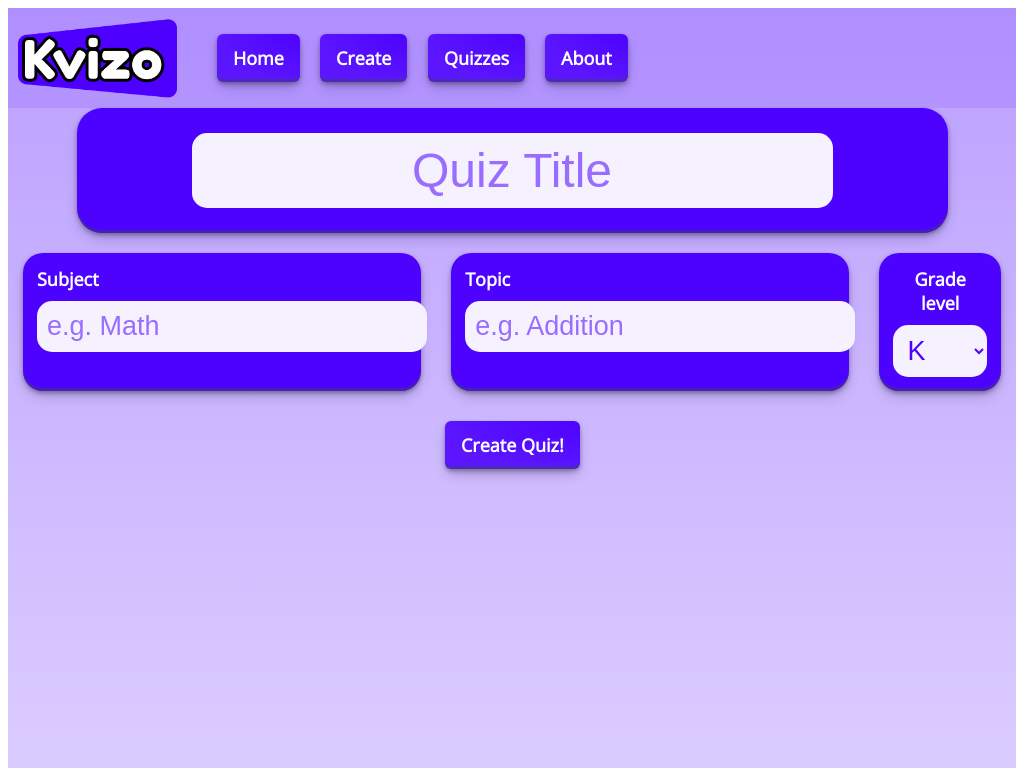
Test case: Create View: New Quiz › As a user, when I click the Create Quiz! button, if the quiz does not save, I should see an error message.
In the field with placeholder "Quiz Title": (513, 171) [192, 133, 833, 208], type "Cypress Quiz Title"
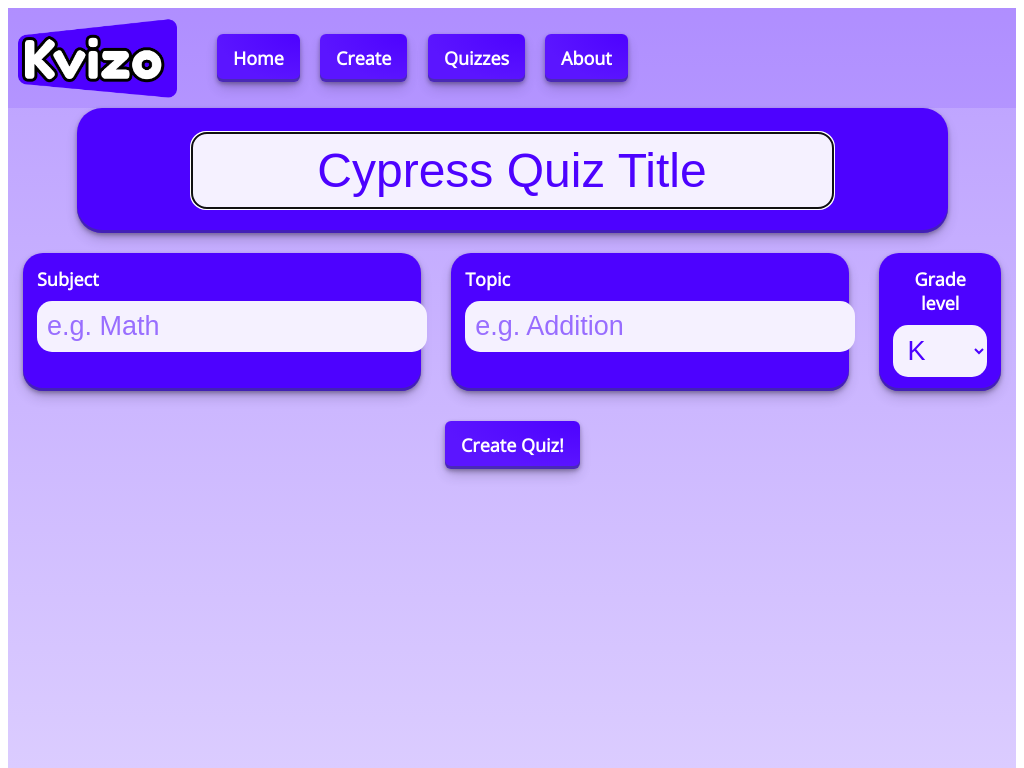
In the field named "subject": (232, 327) [37, 301, 427, 352], type "Cypress Quiz Subject"
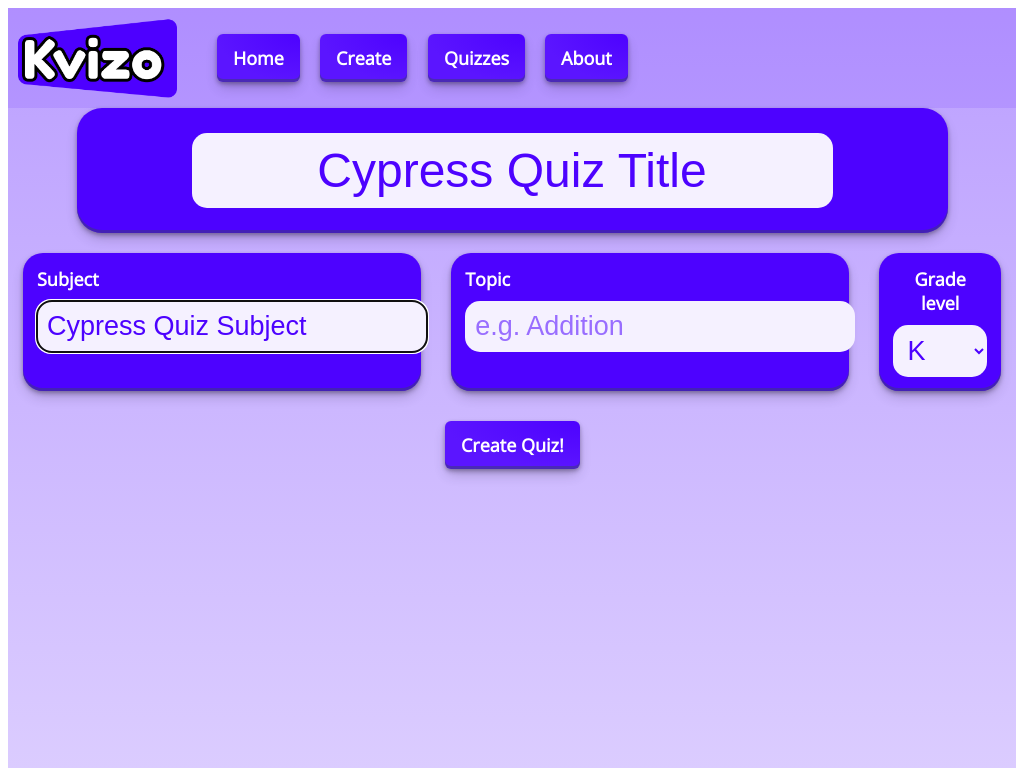
In the field named "topic": (660, 327) [465, 301, 855, 352], type "Cypress Quiz Topic"
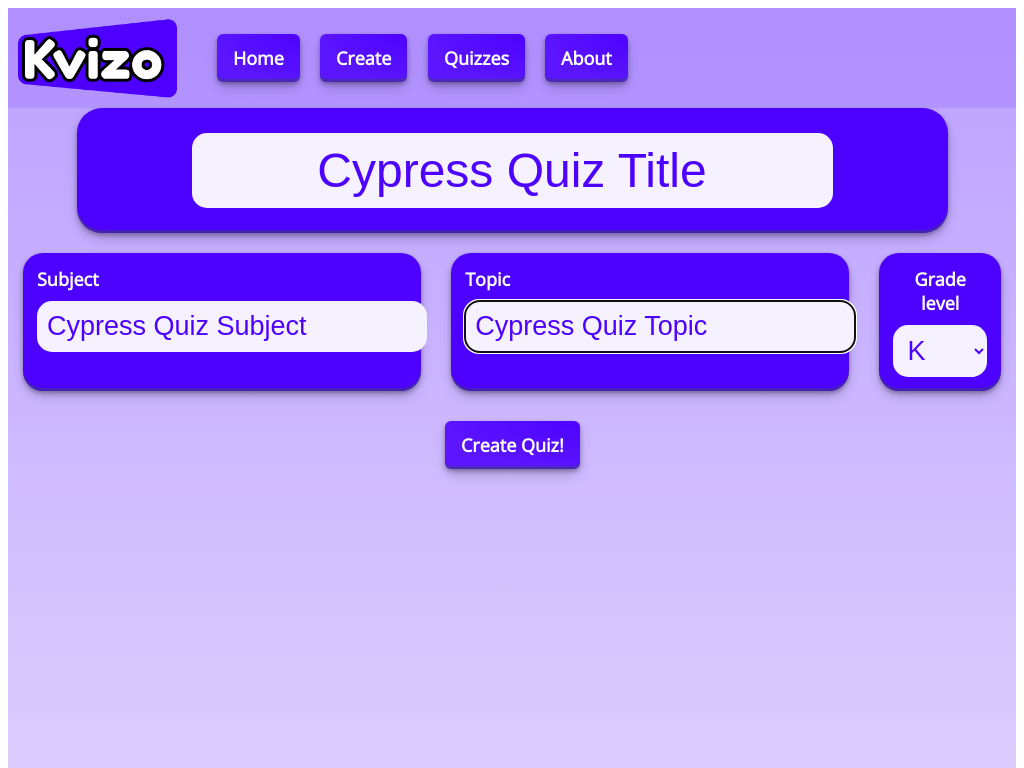
Select "8" in the dropdown named "grade": (940, 351) [893, 325, 987, 377]
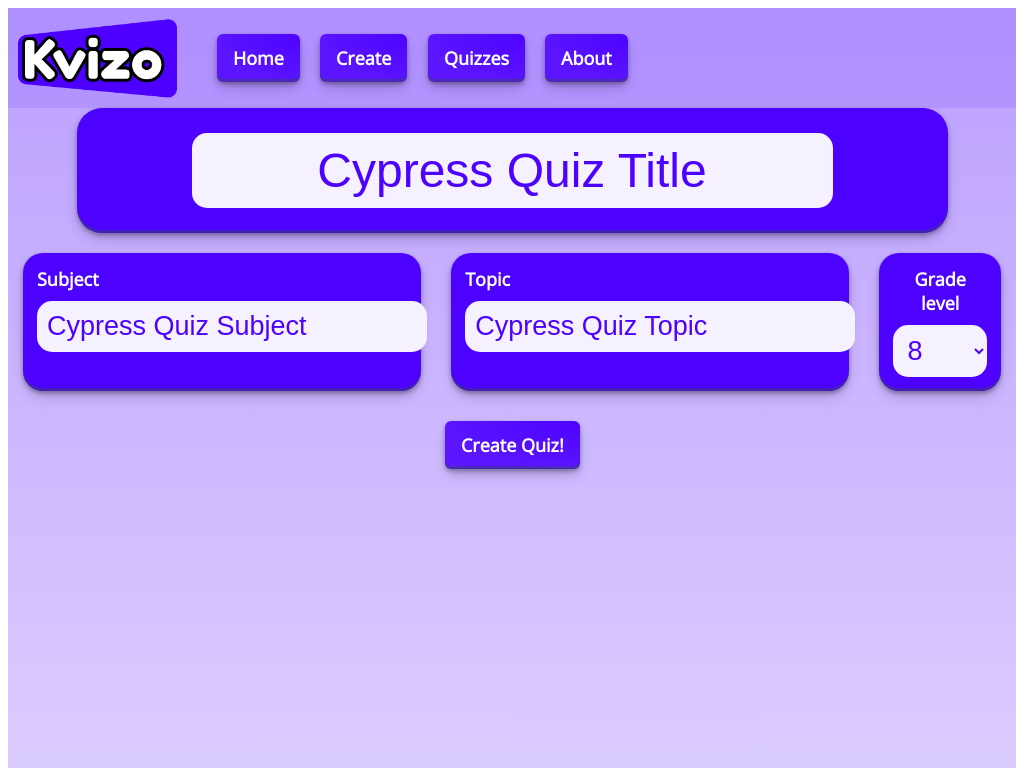
Click the button with class "create": (513, 445) [445, 421, 580, 469]
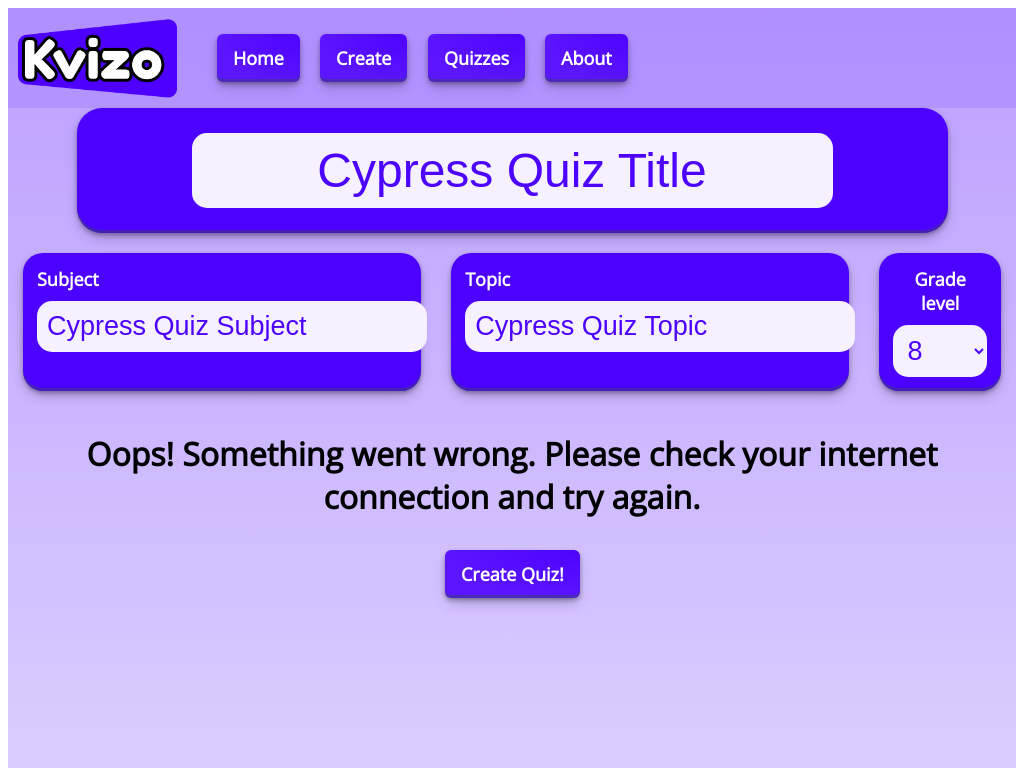
Result: the heading "Oops!" is shown at [87, 432, 938, 518]
